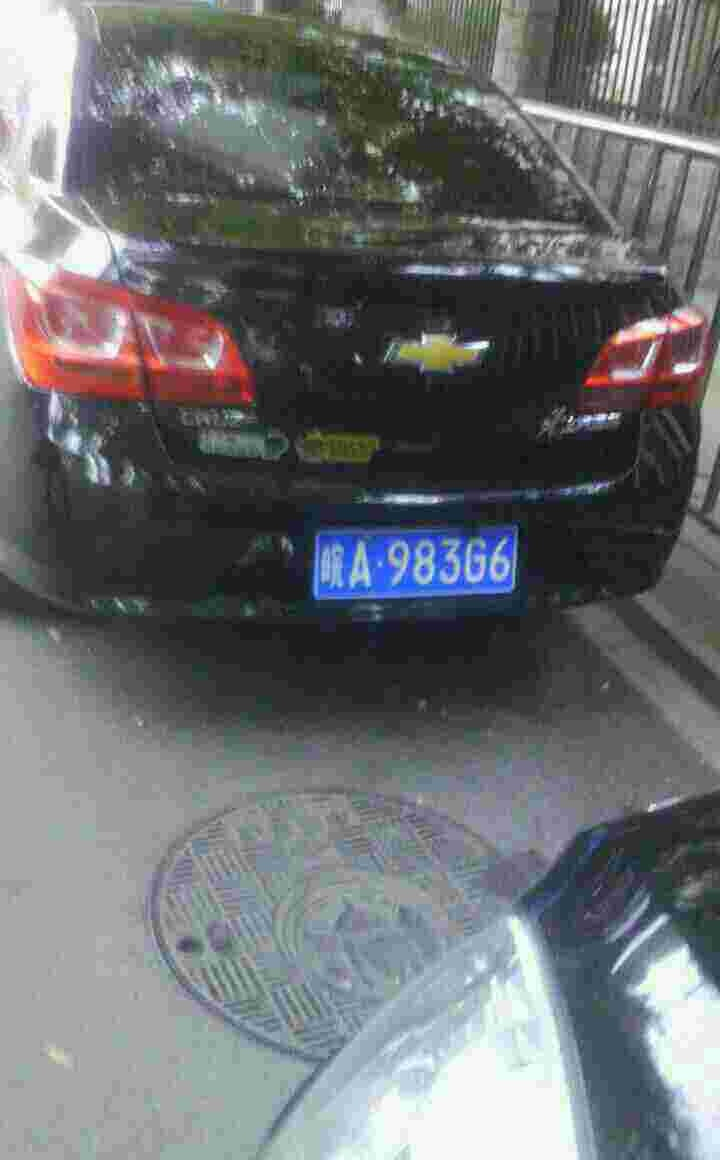license_plate: (312, 523, 525, 609)
